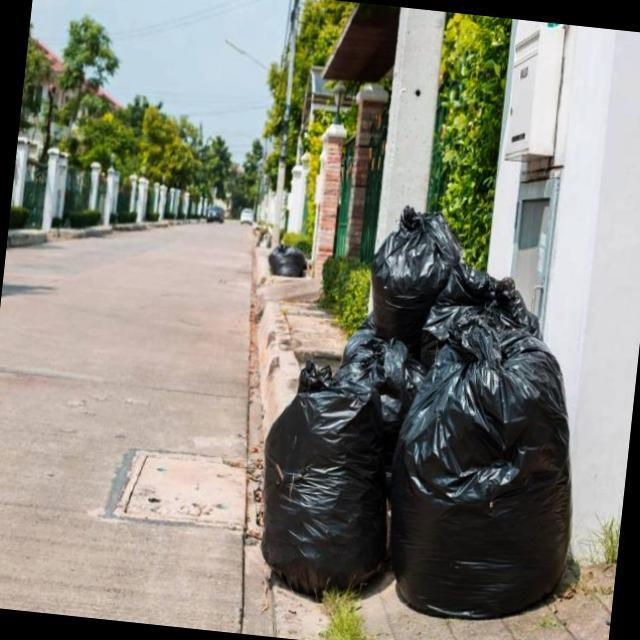garbage: (330, 197, 608, 631), (255, 368, 354, 594), (258, 238, 312, 288)
